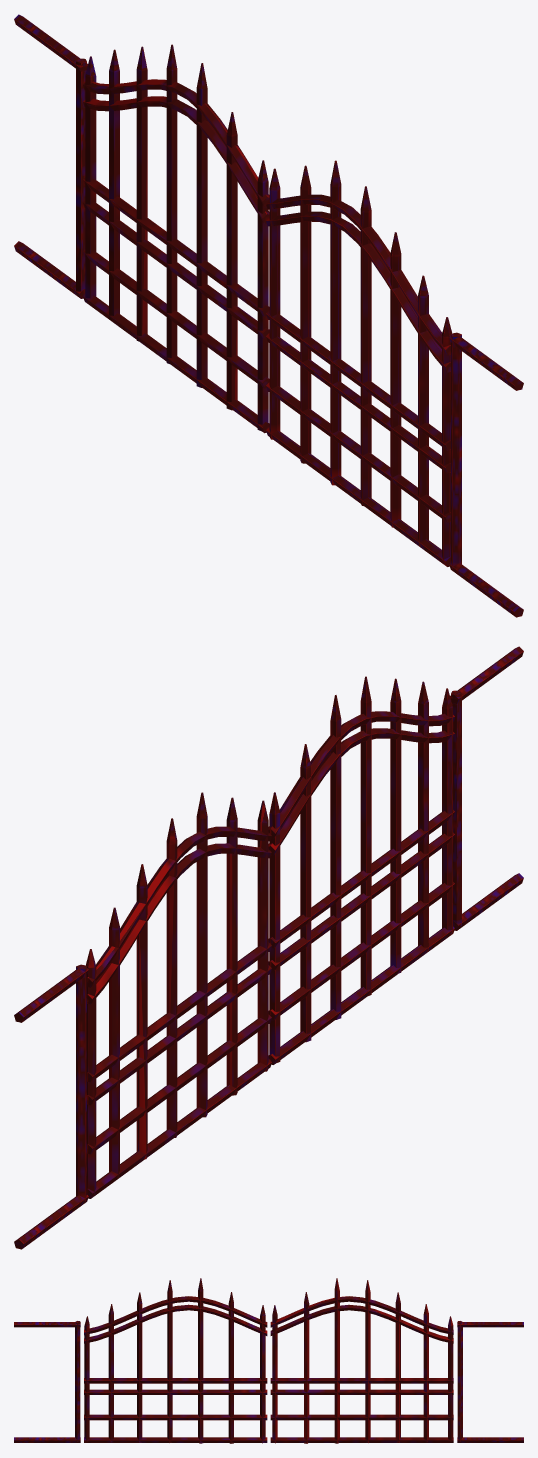
Rendered from MetalGateWT.fbx.
3 renders of one model, top to bottom at view 1: azimuth 30°, elevation 25°; view 2: azimuth 150°, elevation 25°; view 3: azimuth 270°, elevation 25°, orthographic. The views are drawn at different scales.
Parts seen in each view (by area): view 1: Cylinder.001, Cylinder.003, Gate; view 2: Cylinder.001, Cylinder.003, Gate; view 3: Cylinder.001, Cylinder.003, Gate.
Part boxes in pixels (x1,y1,x2,y2): Cylinder.001: [83, 44, 269, 433]; Cylinder.003: [266, 160, 452, 566]; Gate: [14, 14, 523, 617]; Cylinder.001: [85, 792, 271, 1198]; Cylinder.003: [268, 676, 454, 1064]; Gate: [14, 646, 523, 1249]; Cylinder.001: [270, 1278, 453, 1443]; Cylinder.003: [84, 1278, 267, 1443]; Gate: [14, 1321, 523, 1442].
Size of the model in its own units: 9.51 by 307 by 862.
1 material, 1 textured.
